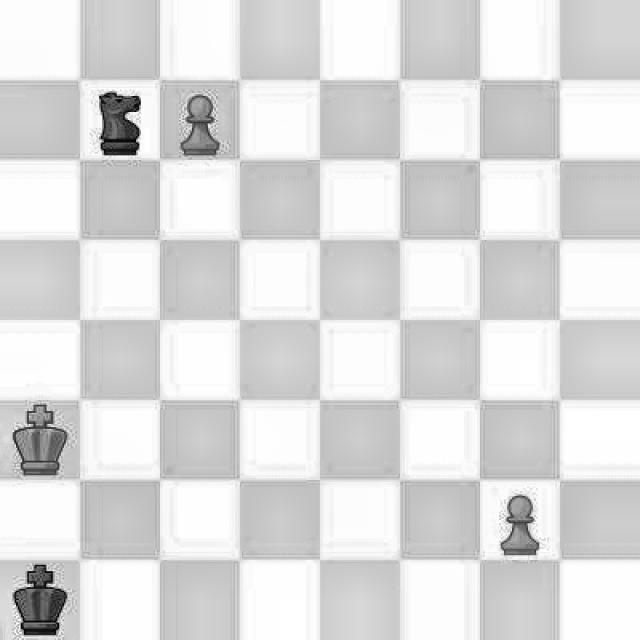Black Knight: (83, 84, 155, 156)
black king: (0, 561, 76, 640)
white king: (5, 404, 76, 474)
white pawn: (482, 480, 556, 565), (166, 80, 237, 162)
